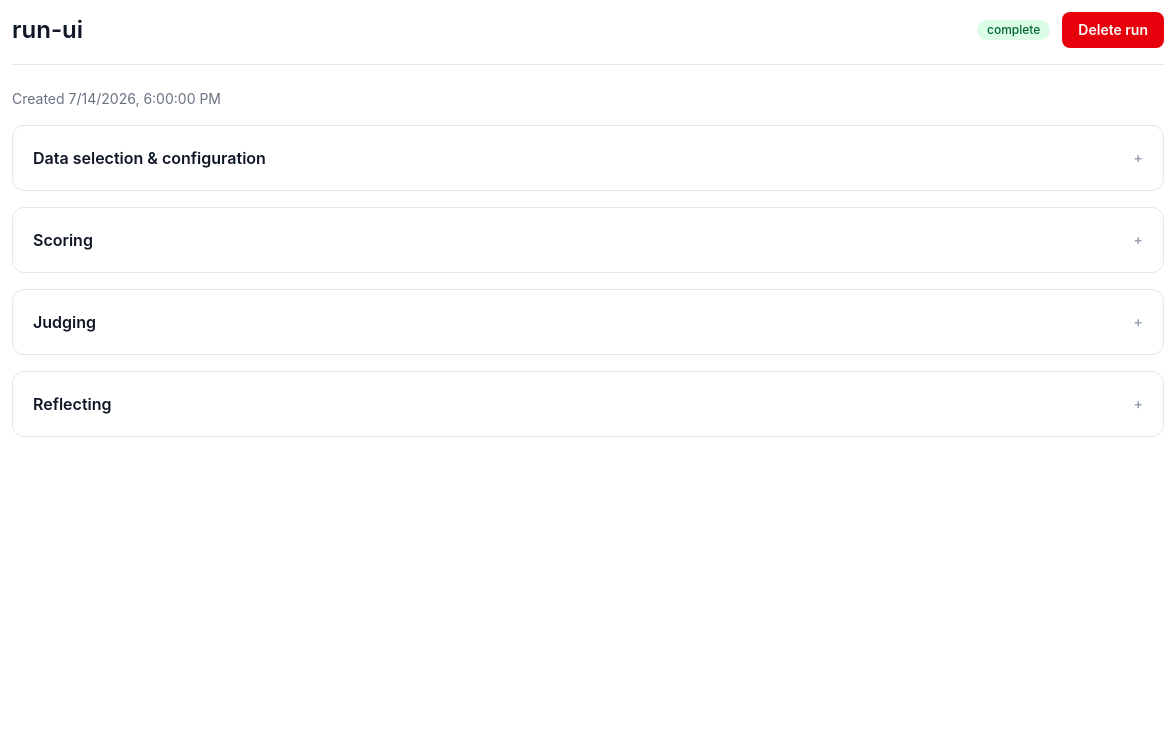
Test: RunDetail wiring › routes an all-invalid finalized reflection through the full review evidence view
Click the button "Reflecting +" at (72, 404), box [33,392,1143,416]
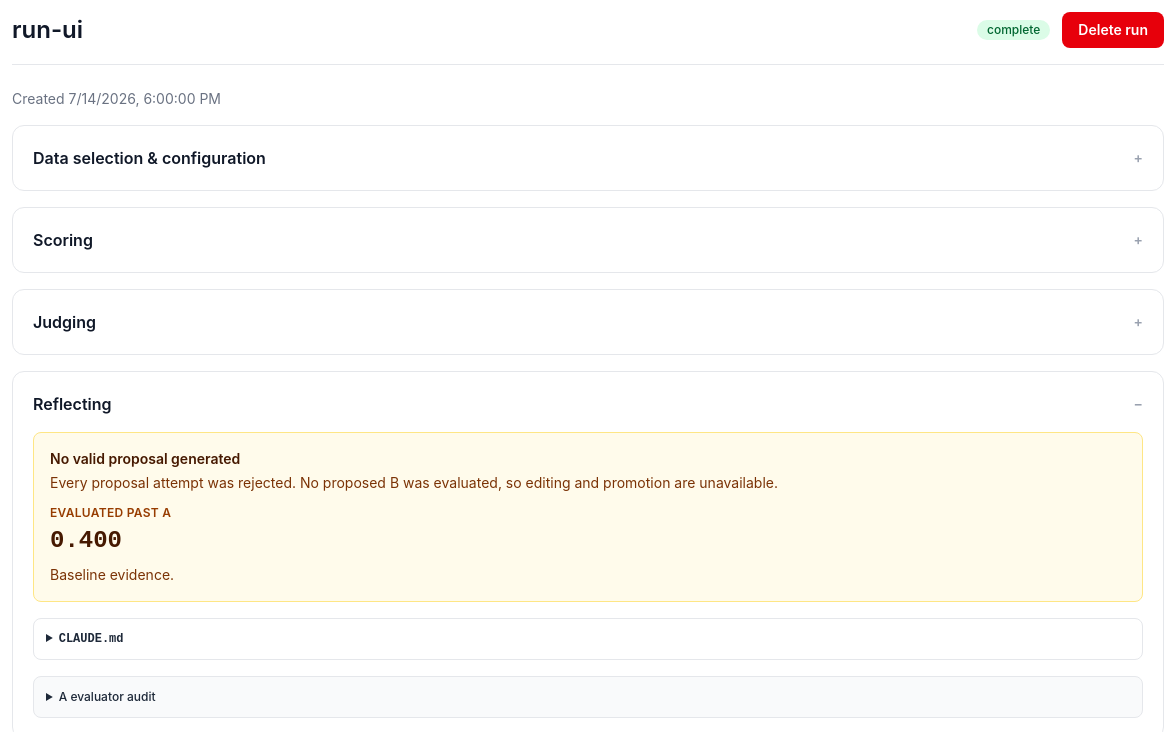
Expected: the element named "Reflection review" is shown, [33,432,1143,718]
Expected: the text "No proposed B was evaluated" is shown, [50,474,778,491]
Expected: the text "Baseline evidence." is shown, [50,566,174,583]
